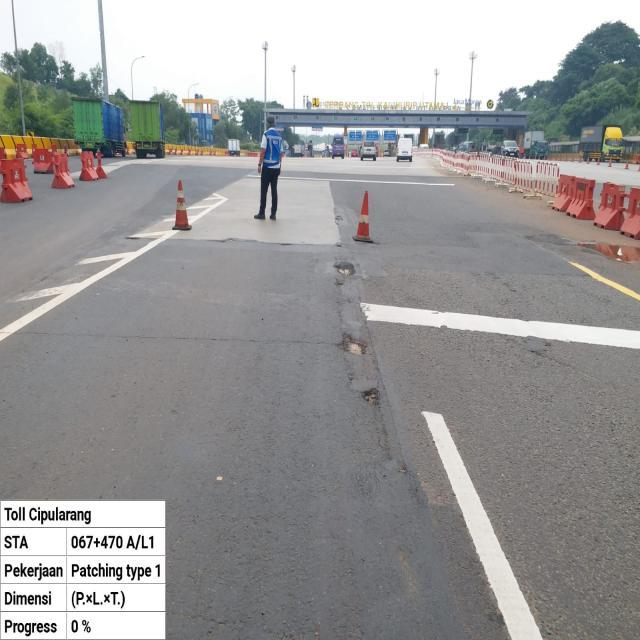Buraco: (571, 239, 640, 266), (333, 331, 371, 357), (358, 387, 382, 410), (332, 262, 358, 280)
